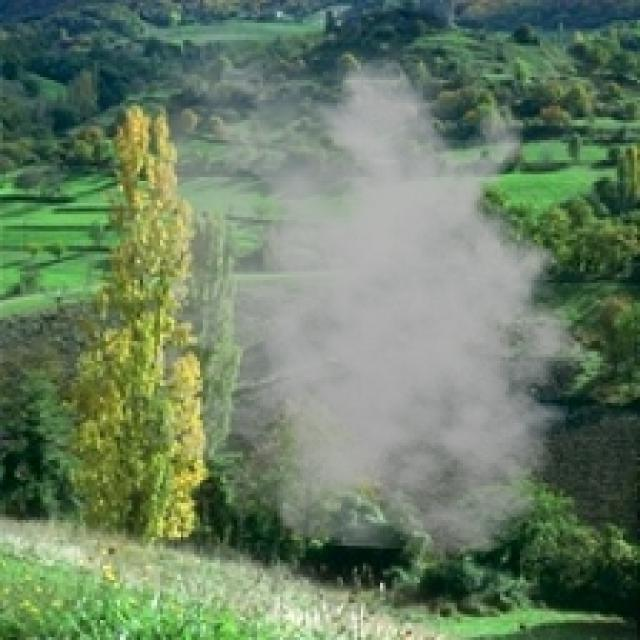smoke: (86, 9, 608, 560)
